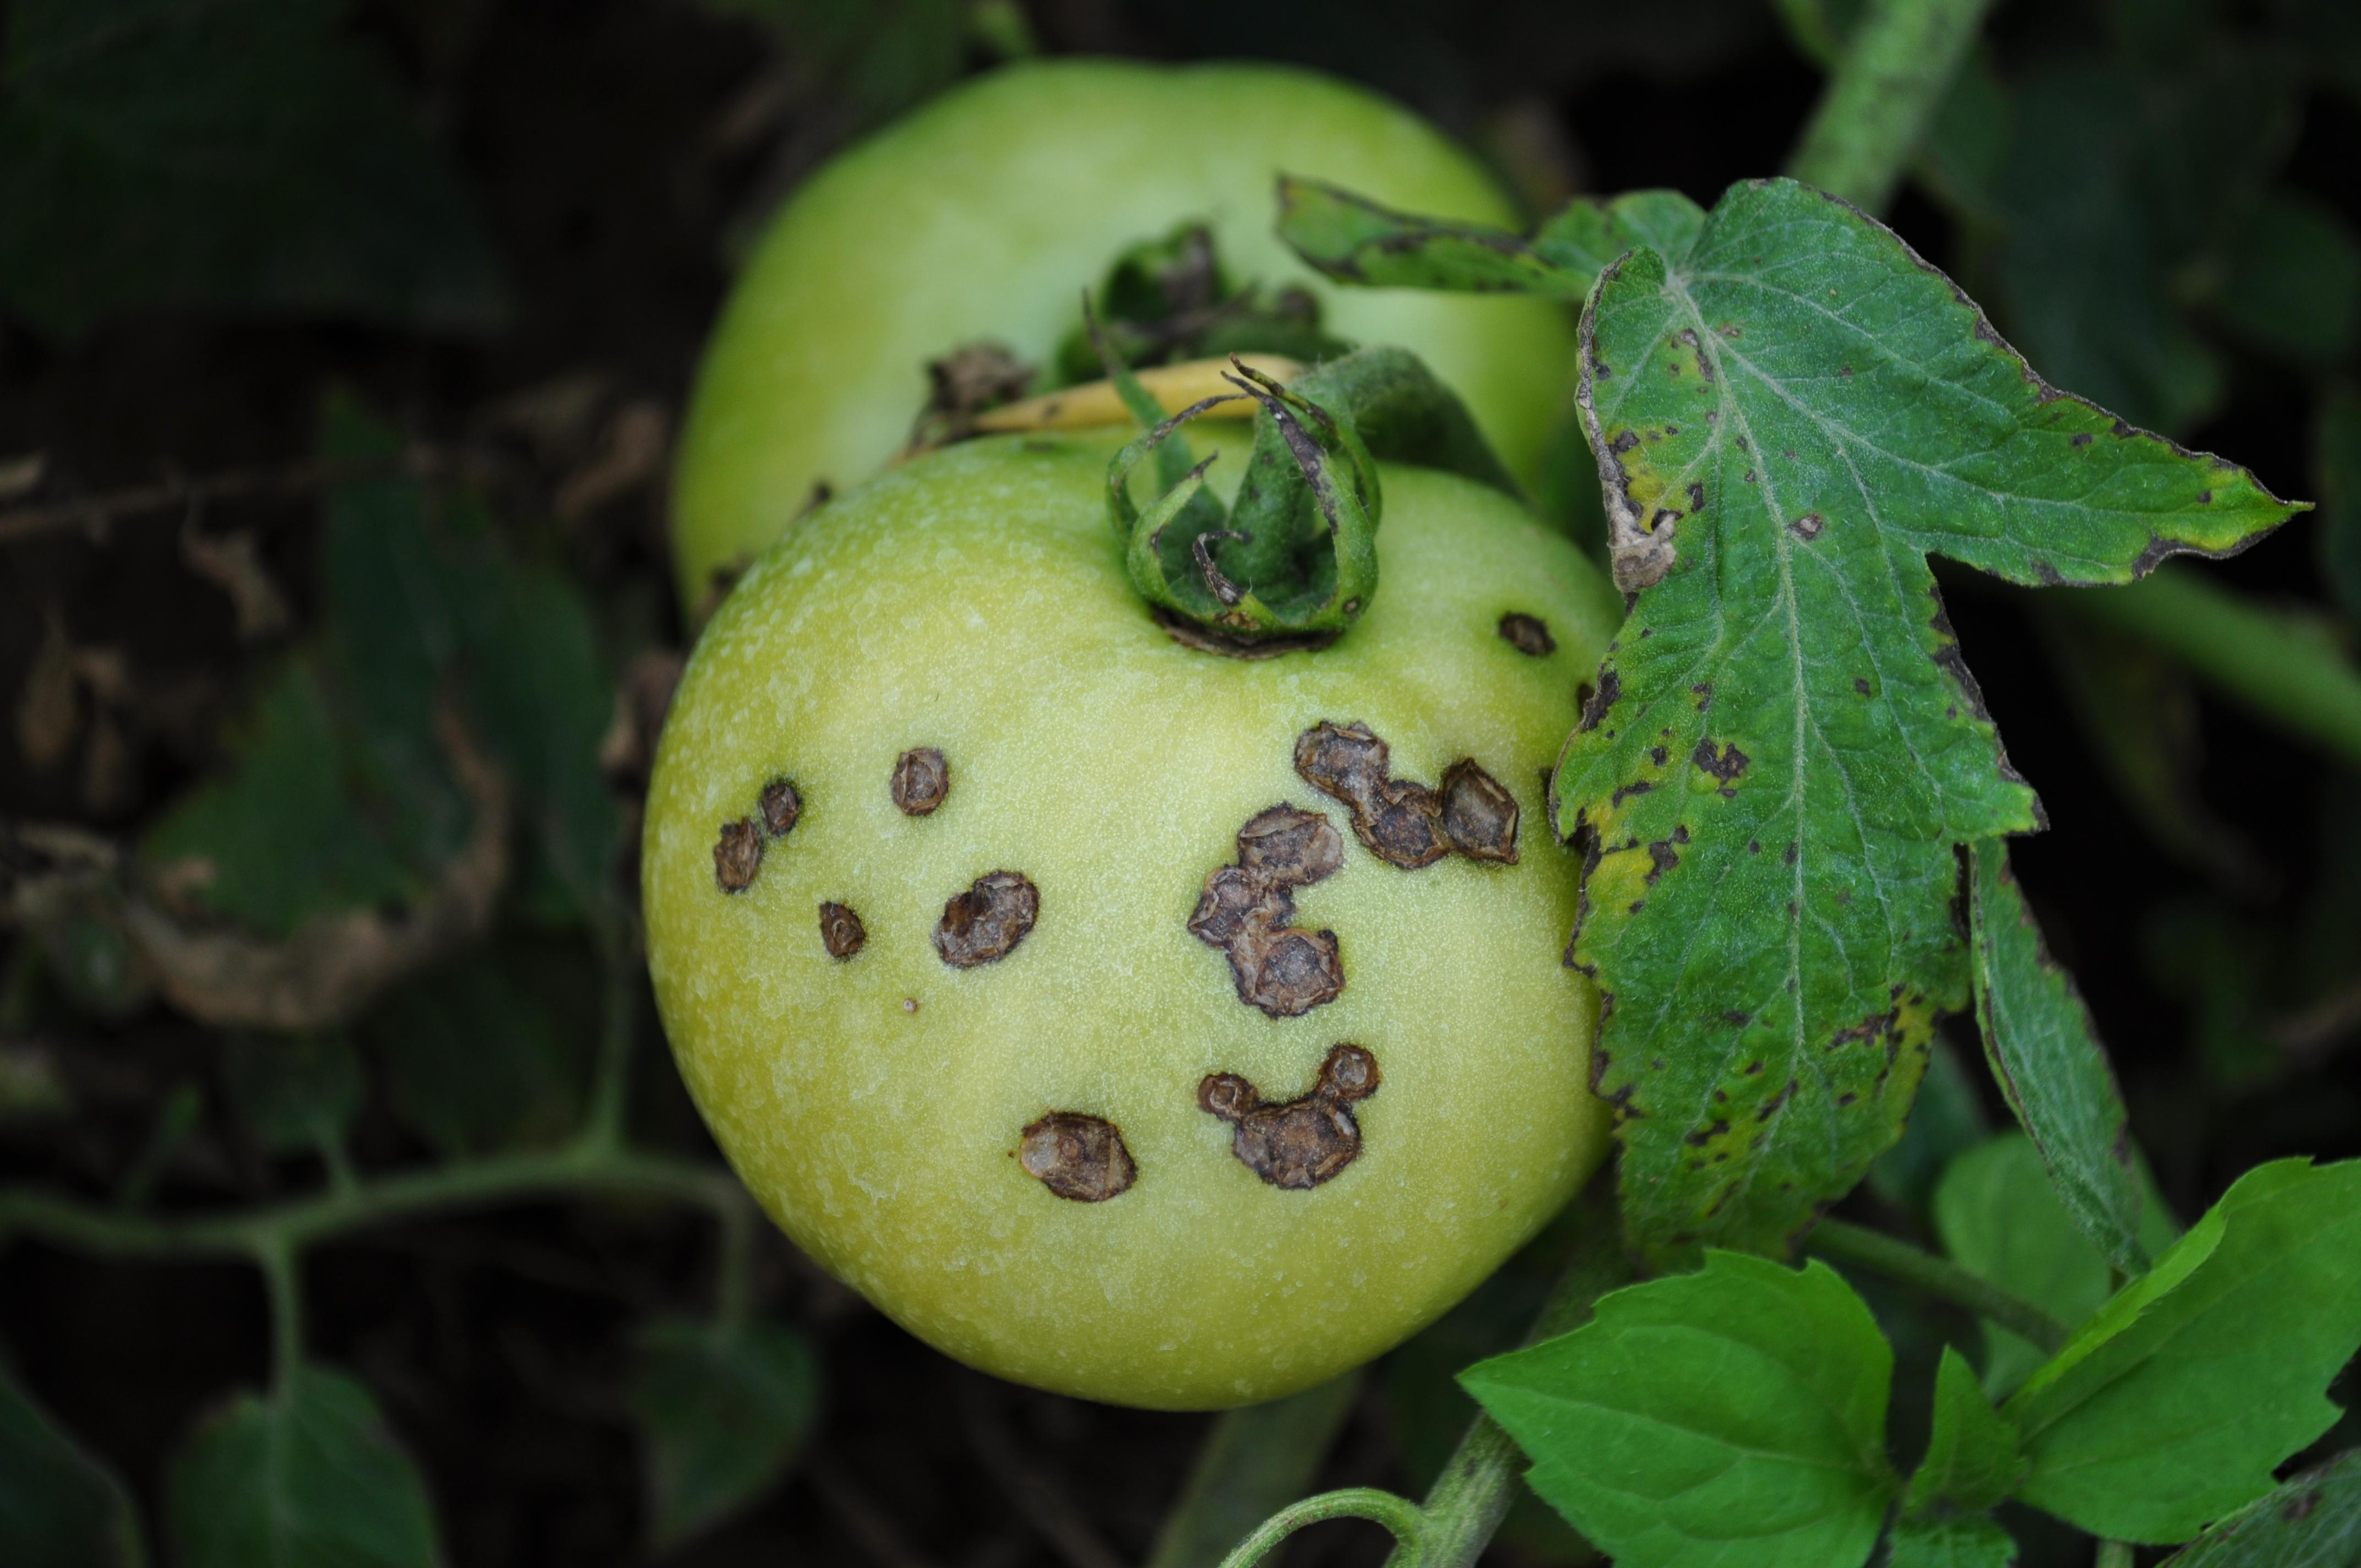tomato bacterial spot: (630, 217, 1643, 1424)
